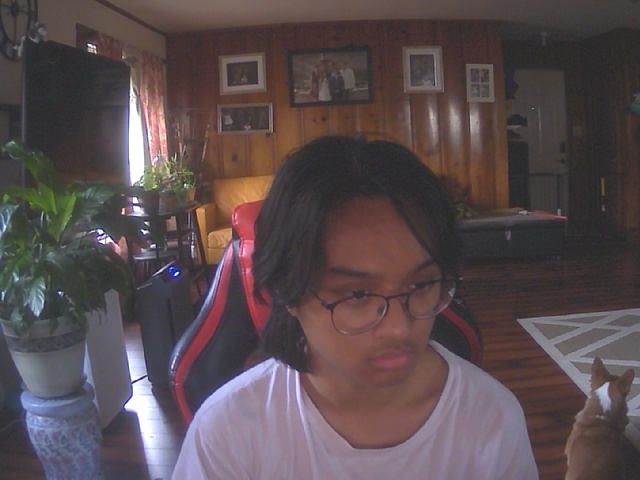neutral: (278, 139, 465, 392)
